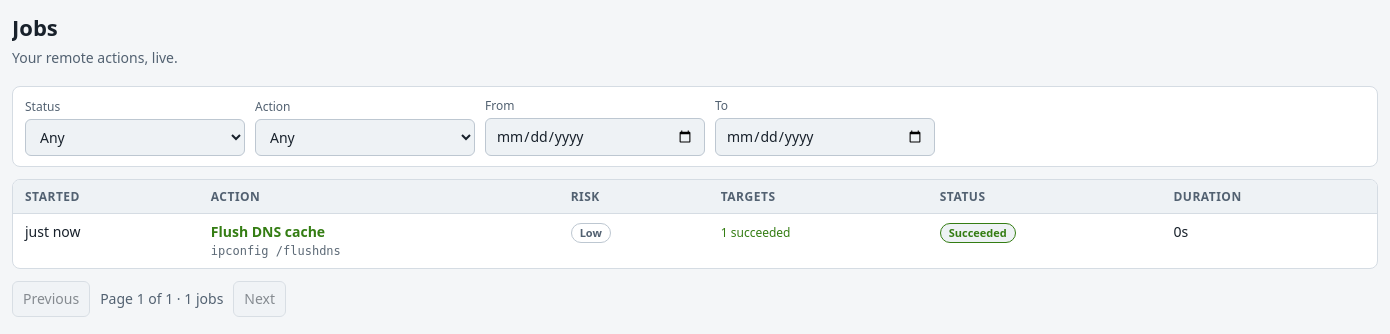
Test: job navigation › global Jobs → job → Back returns to the global Jobs page
This screenshot has width=1390, height=334.
Click the link "Flush DNS cache". click: (268, 232)
box: [211,222,325,241]
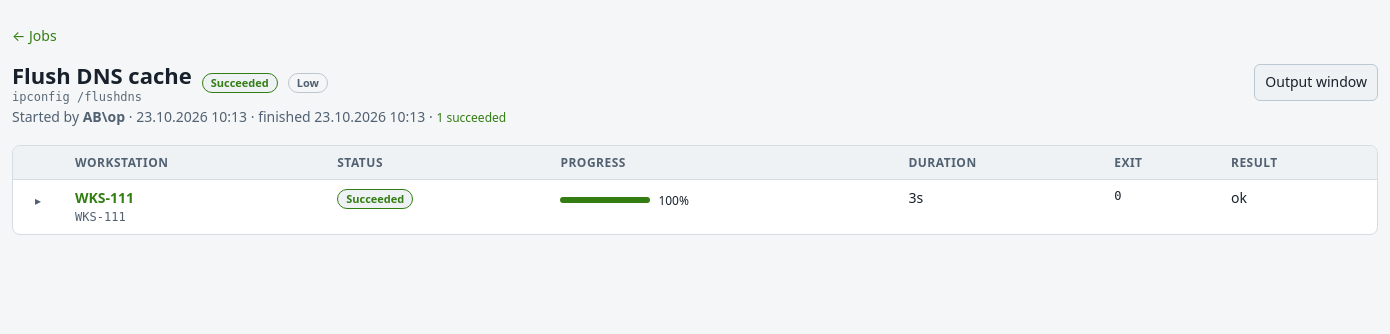
Result: the link with test id "job-back" shows "Jobs"
Click the link with test id "job-back". click: (20, 36)
box: [12,26,57,45]
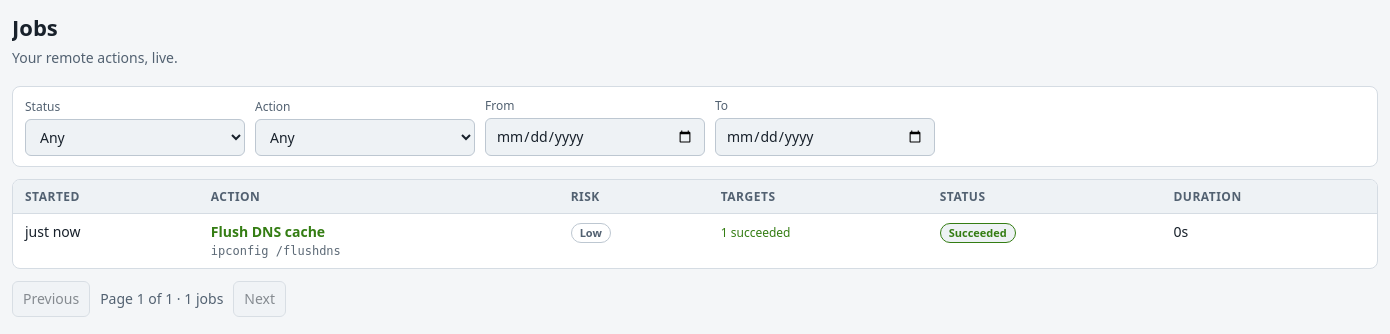
Result: the heading "Jobs" is shown at [12,12,58,42]
